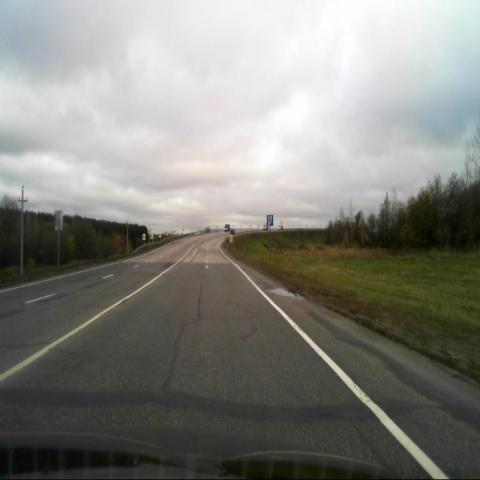5_15_3: (266, 214, 274, 226)
